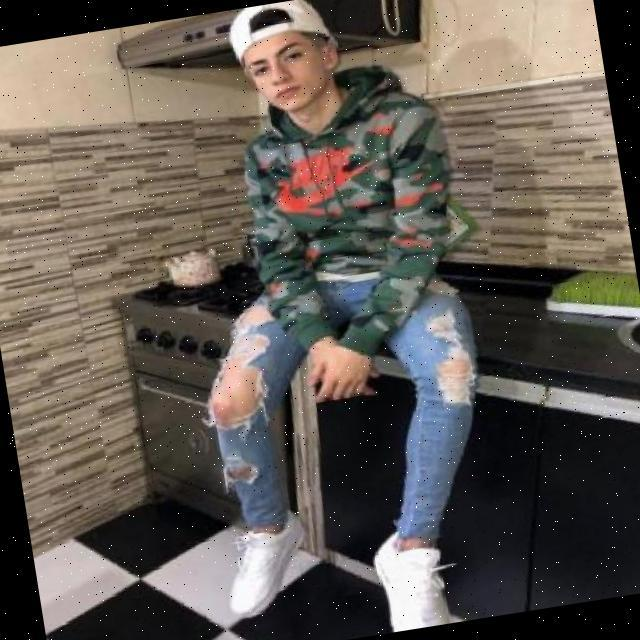Nike: (271, 142, 381, 214)
